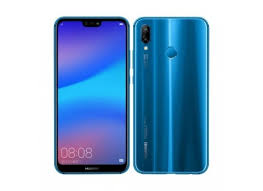huawei: (53, 14, 133, 174), (132, 13, 210, 176)
